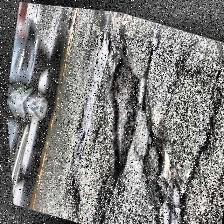pothole: (85, 48, 159, 188), (134, 129, 176, 195), (82, 7, 110, 25)
